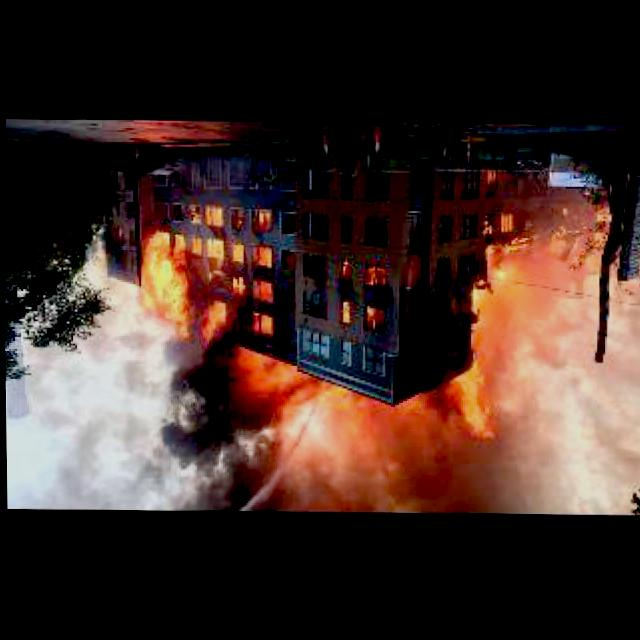helmet: (138, 204, 224, 347), (221, 334, 327, 428), (454, 361, 498, 448), (333, 268, 383, 333), (478, 215, 533, 265), (227, 239, 247, 301), (250, 209, 270, 238)
no_helmet: (39, 337, 274, 508), (274, 380, 560, 512)
